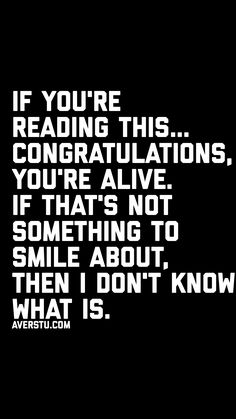latin: (11, 85, 235, 320), (11, 319, 70, 331)
